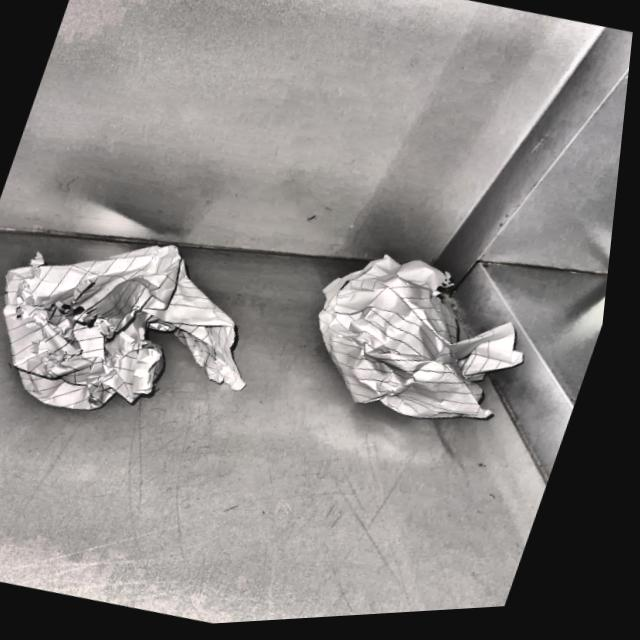Paper: (0, 209, 298, 461), (276, 228, 572, 462)
